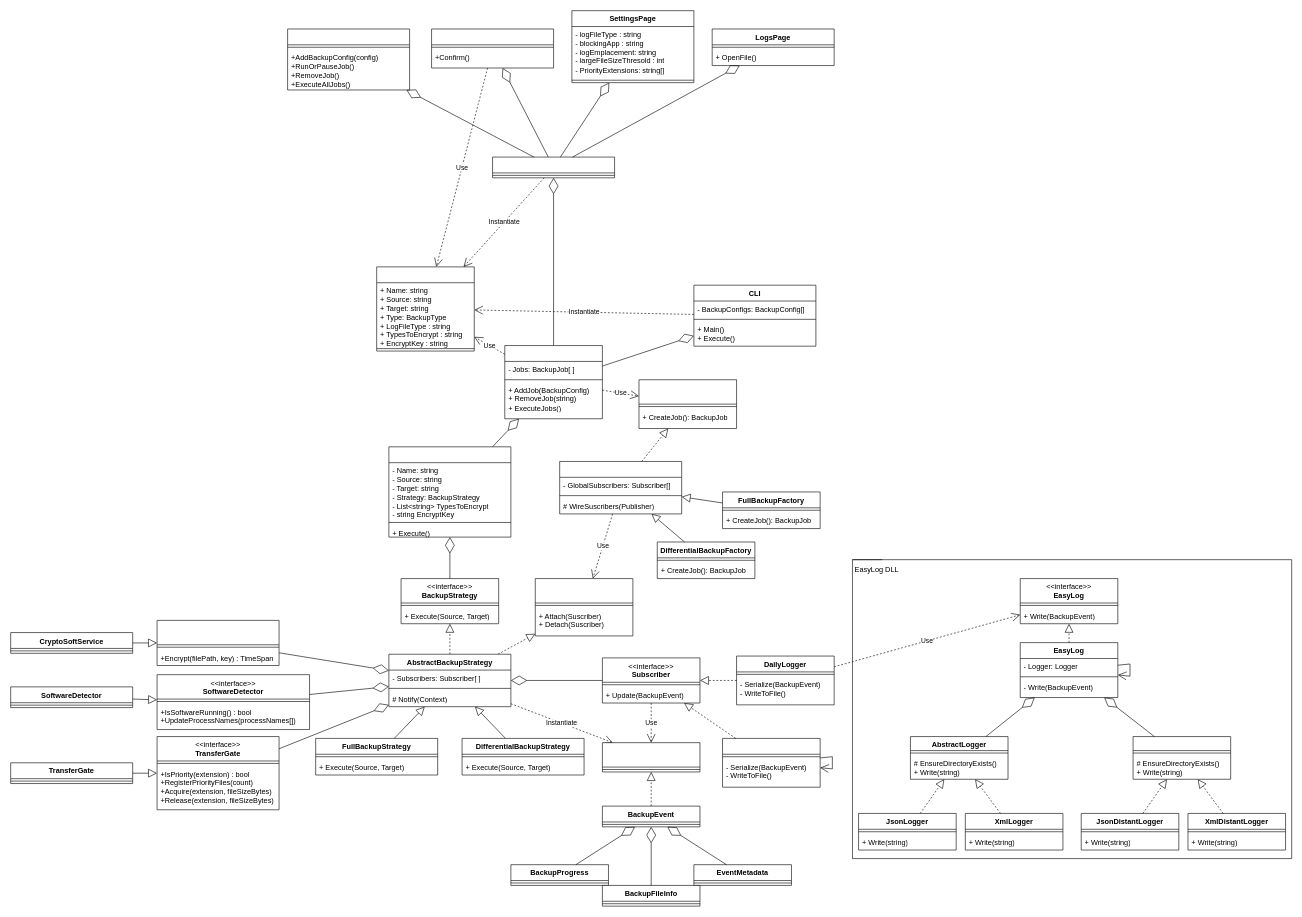
Image size: 1302x917. Some labels were removed from this diagram. The shapes that lost their labels are listed below. From the top down, each one's box as (x1, y1, x2, y2) in pixels, then its label:
(287, 28, 410, 90): JobsPage
(431, 28, 554, 68): BackupConfigDialog
(492, 156, 615, 178): MainViewModel
(376, 266, 474, 351): BackupConfig
(504, 345, 602, 419): JobManager
(638, 379, 737, 429): <<interface>> BackupFactory
(388, 446, 511, 537): BackupJob
(559, 461, 682, 514): AbstractBackupFactory
(535, 578, 633, 636): <<interface>> Publisher
(156, 620, 279, 666): <<interface>> EncryptionService
(602, 742, 700, 772): <<interface>> BackupEvent
(722, 738, 820, 787): StateTracker
(1132, 736, 1231, 779): AbstractDistant Logger
